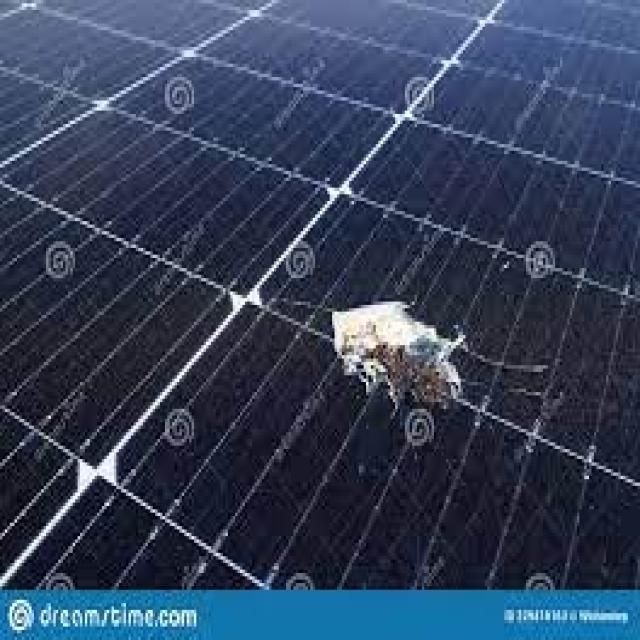Bird-drop: (329, 285, 552, 457)
